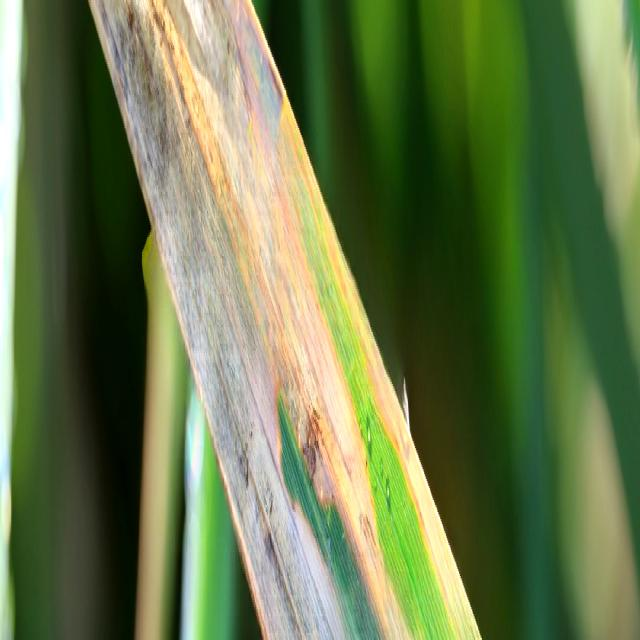BLB: (88, 0, 475, 640)
